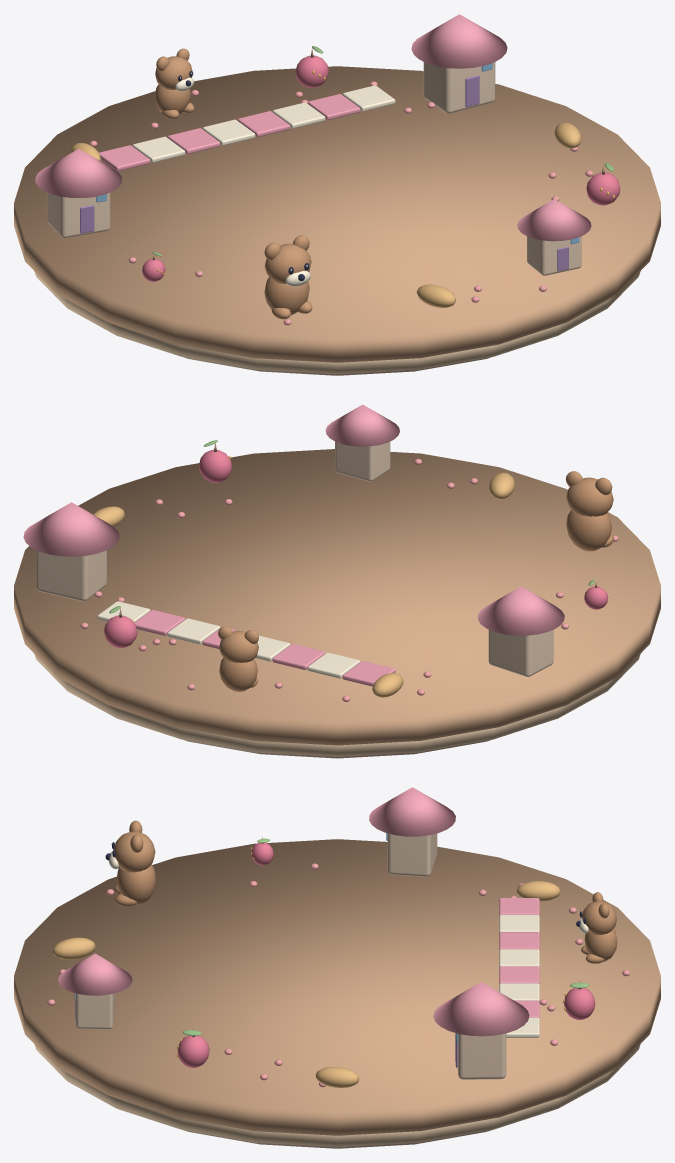
File: world.glb
3 renders of one model, top to bottom at view 1: azimuth 30°, elevation 25°; view 2: azimuth 150°, elevation 25°; view 3: azimuth 270°, elevation 25°, orthographic.
Parts seen in each view (by area): view 1: Cone, Cone.001, house.001, house.002, house.003, bear.002, bear.001, strawberry.003, strawberry.001, Cube, Cube.003, Cube.002 (+8 smaller); view 2: Cone, Cone.001, house.001, house.002, house.003, bear.002, bear.001, strawberry.003, strawberry.001, Cube.001, Cube.002, Cube.005 (+7 smaller); view 3: Cone, Cone.001, house.001, house.002, house.003, bear.002, bear.001, strawberry.003, strawberry.001, bread.003, bread.001, Cube.002 (+7 smaller).
Part boxes in pixels (left/top/right/bottom): Cone: left=14, top=66, right=660, bottom=362; Cone.001: left=34, top=271, right=640, bottom=374; house.001: left=411, top=14, right=507, bottom=113; house.002: left=35, top=149, right=121, bottom=238; house.003: left=517, top=199, right=591, bottom=275; bear.002: left=264, top=235, right=312, bottom=319; bear.001: left=155, top=48, right=194, bottom=119; strawberry.003: left=586, top=163, right=620, bottom=205; strawberry.001: left=295, top=46, right=328, bottom=88; Cube: left=99, top=145, right=150, bottom=171; Cube.003: left=202, top=119, right=255, bottom=145; Cube.002: left=167, top=128, right=220, bottom=154; Cone: left=14, top=449, right=660, bottom=745; Cone.001: left=34, top=654, right=640, bottom=756; house.001: left=23, top=502, right=119, bottom=601; house.002: left=478, top=586, right=564, bottom=676; house.003: left=325, top=404, right=399, bottom=481; bear.002: left=565, top=471, right=613, bottom=551; bear.001: left=218, top=626, right=258, bottom=691; strawberry.003: left=199, top=440, right=232, bottom=482; strawberry.001: left=104, top=606, right=137, bottom=647; Cube.001: left=307, top=652, right=360, bottom=678; Cube.002: left=272, top=644, right=325, bottom=669; Cube.005: left=167, top=618, right=220, bottom=644; Cone: left=14, top=839, right=660, bottom=1135; Cone.001: left=34, top=1044, right=640, bottom=1147; house.001: left=433, top=982, right=529, bottom=1079; house.002: left=369, top=787, right=455, bottom=876; house.003: left=58, top=953, right=132, bottom=1029; bear.002: left=105, top=820, right=155, bottom=906; bear.001: left=576, top=892, right=617, bottom=963; strawberry.003: left=177, top=1027, right=209, bottom=1067; strawberry.001: left=563, top=980, right=595, bottom=1019; bread.003: left=52, top=937, right=95, bottom=959; bread.001: left=315, top=1066, right=359, bottom=1087; Cube.002: left=499, top=932, right=539, bottom=949.
Size of the model in its own units: 9.6 by 2.22 by 9.6.
